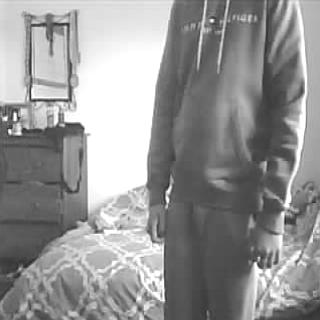Blue Hoodie: (146, 0, 310, 200)
Blue Sweatpants: (165, 200, 263, 320)
